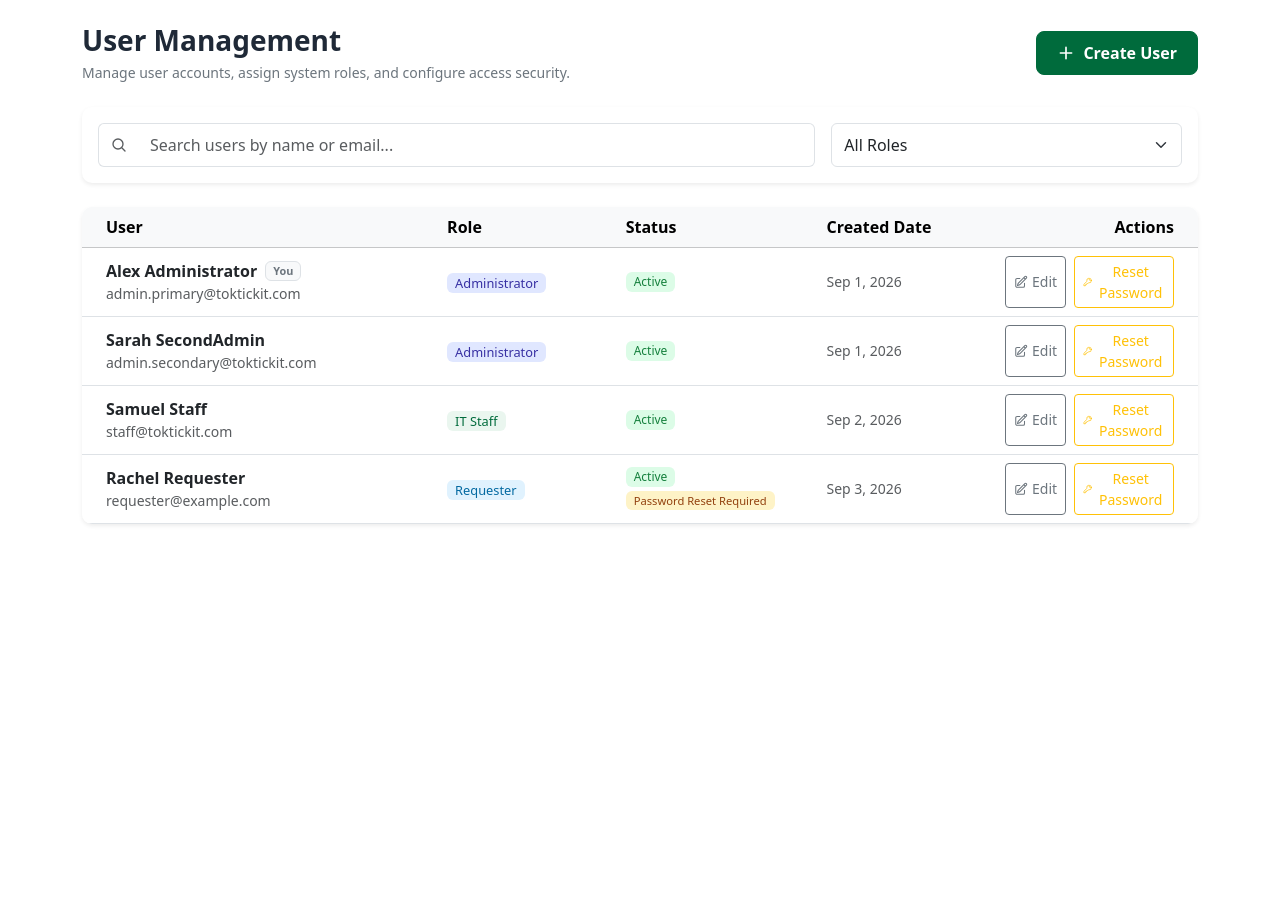
Scenario: Administrator User Management UI Tests (Lab 3 — Issue 27: UI-26..UI-30) › UI-30: should open Reset Initial Password modal, require complexity, and invalidate sessions
This screenshot has width=1280, height=900.
// Open Reset Password modal
Click the button "Reset Password" in the row of "Samuel Staff" at (1124, 420), box [1074, 394, 1174, 446]
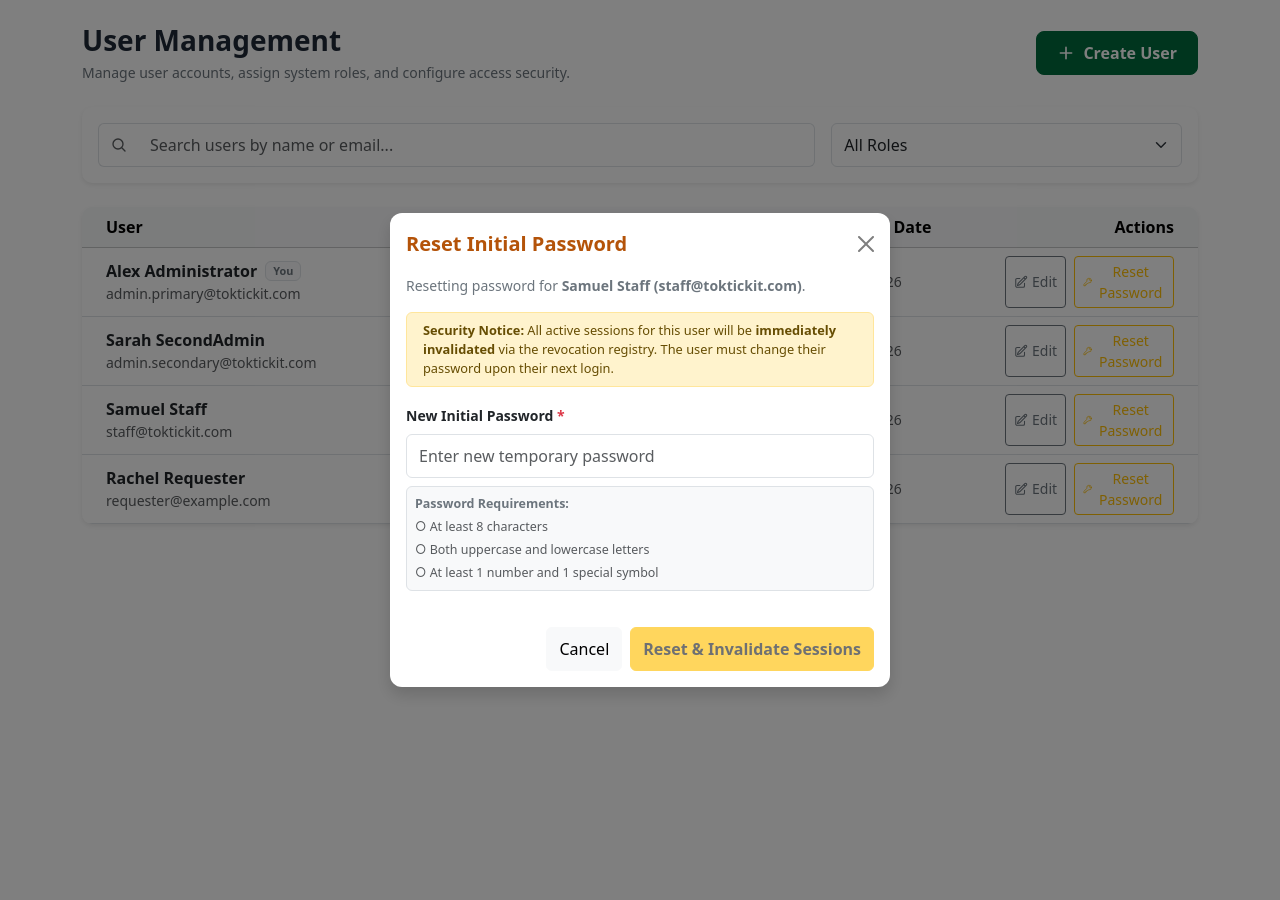
Result: the element with test id "admin-reset-password-modal" is shown
Result: the text "Resetting password for Samuel Staff (staff@toktickit.com)." is shown at [406, 275, 874, 296]
Result: the text "Security Notice:" is shown at [423, 321, 524, 339]
// Enter weak password
Type "weakpwd" into the password field with test id "input-reset-password" at (640, 456), box [406, 434, 874, 478]
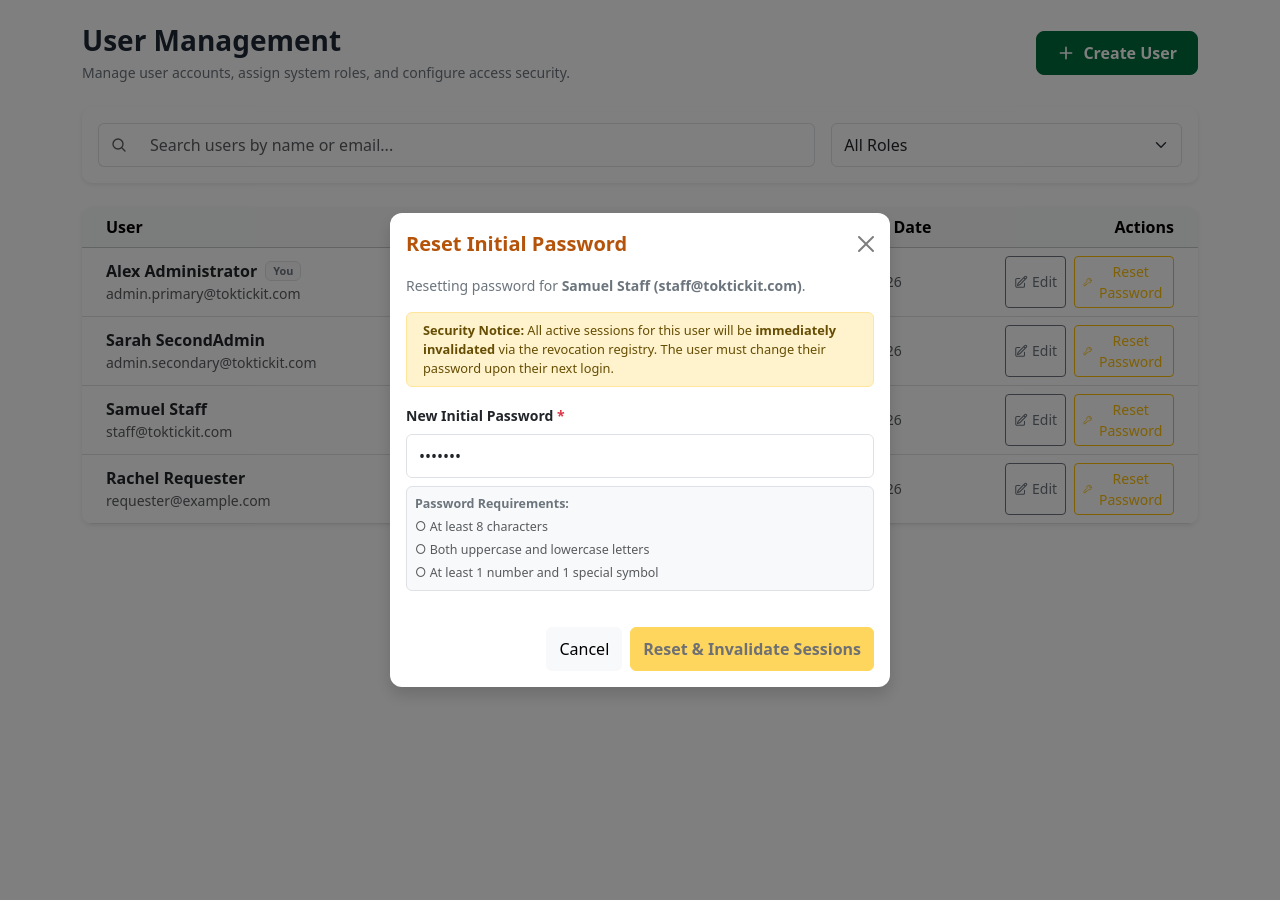
Result: the button with test id "btn-submit-reset-password" is disabled at [630, 627, 874, 671]
// Enter valid complex password
Type "NewResetPass456!" into the password field with test id "input-reset-password" at (640, 456), box [406, 434, 874, 478]
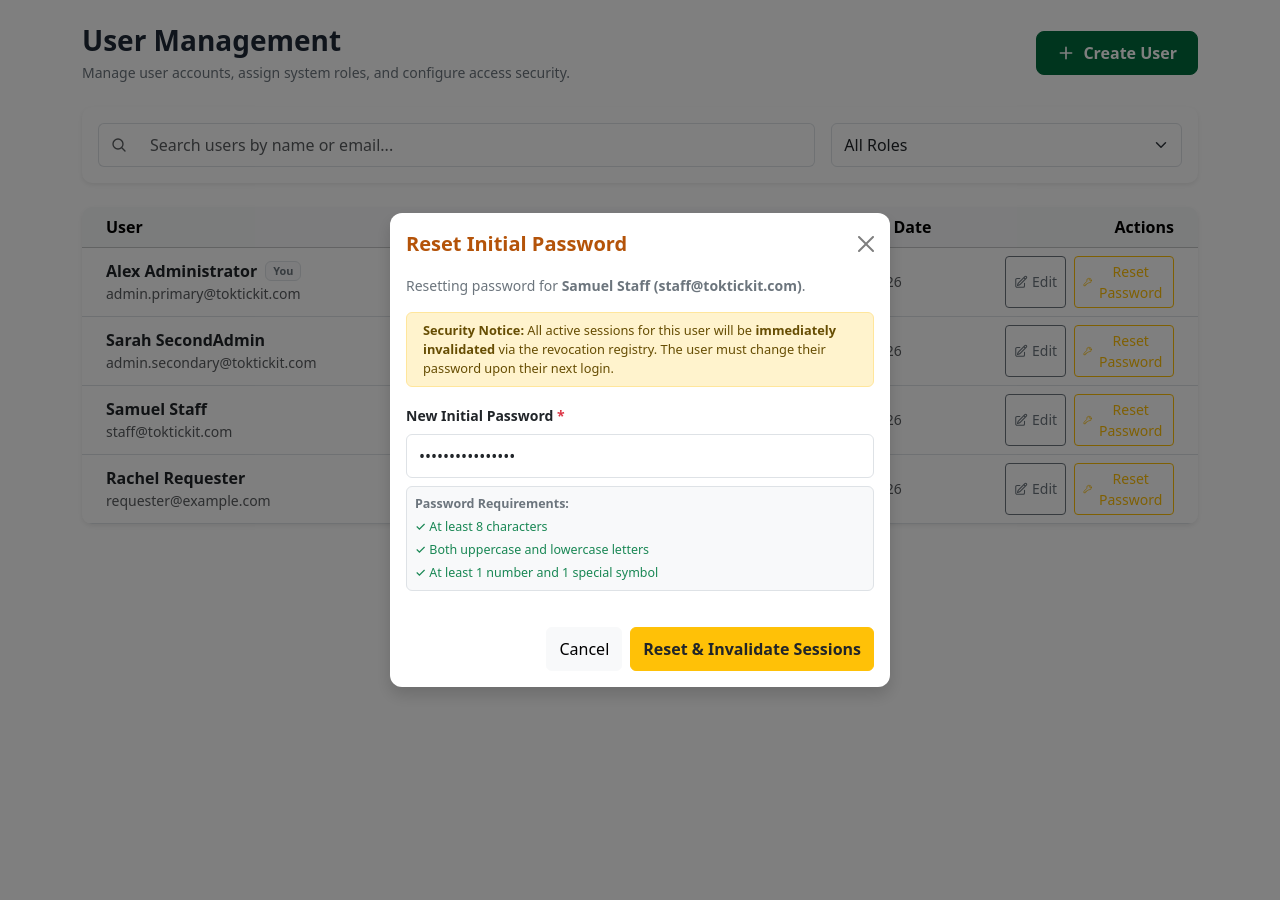
Result: the button with test id "btn-submit-reset-password" is enabled
// Submit reset
Click the button with test id "btn-submit-reset-password" at (752, 649), box [630, 627, 874, 671]
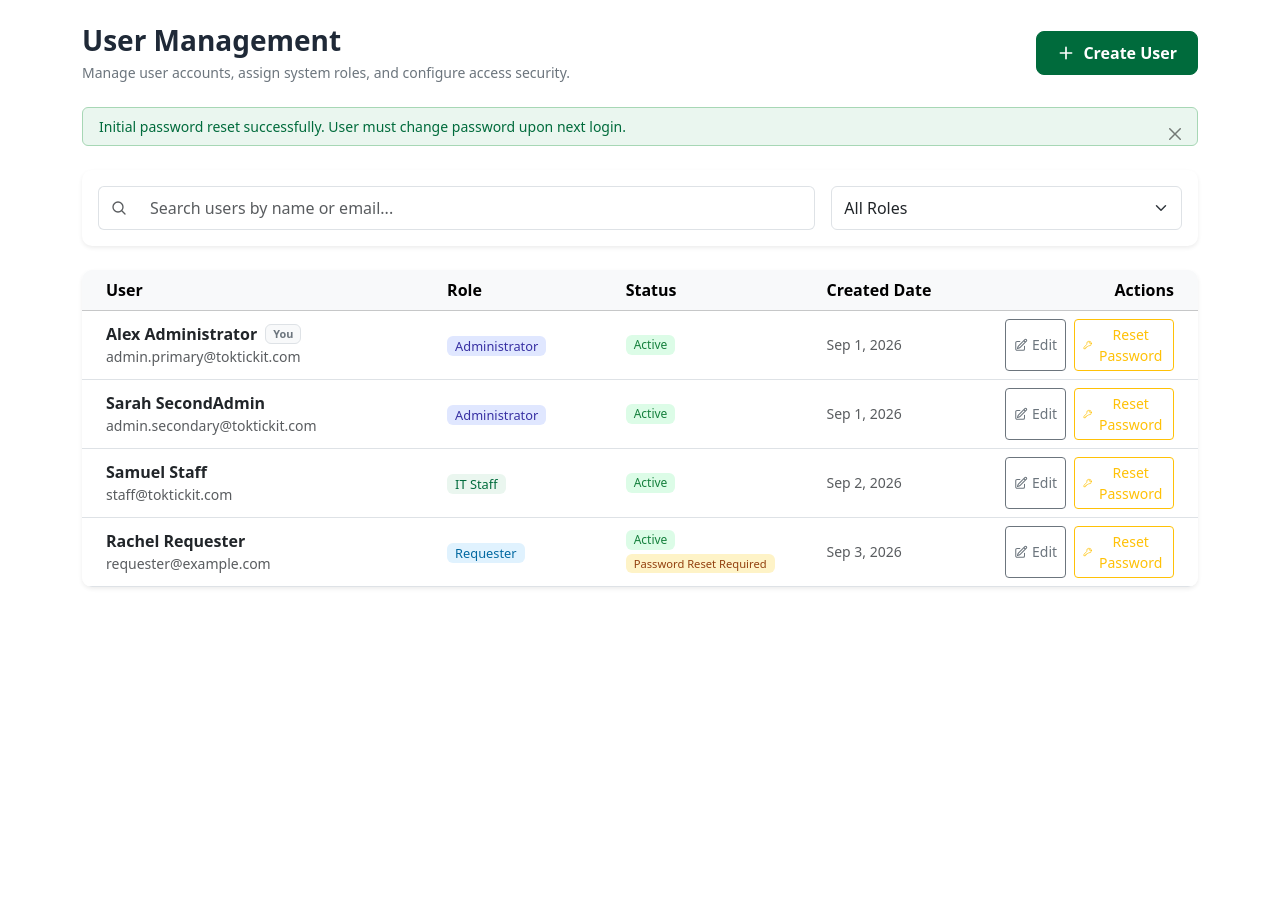
Result: the message with test id "admin-success-alert" is shown at [82, 107, 1198, 146]
Result: the message with test id "admin-success-alert" shows "Initial password reset successfully" at [99, 117, 626, 136]
